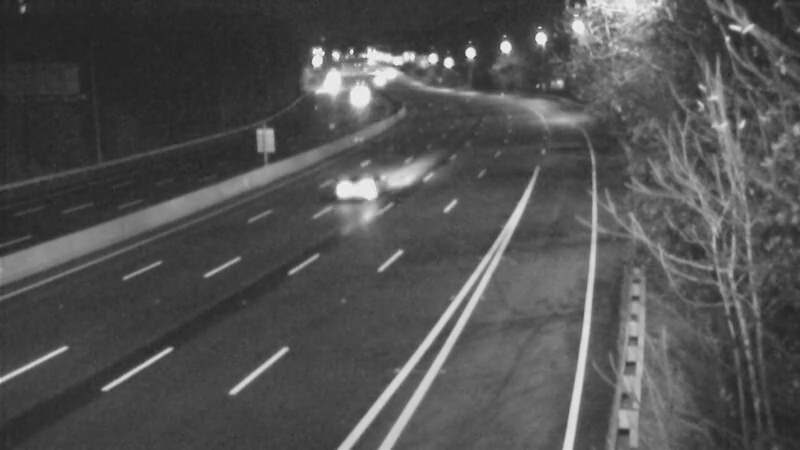vehicle: (325, 144, 405, 224), (352, 57, 402, 107), (331, 70, 381, 120), (306, 56, 356, 106)
